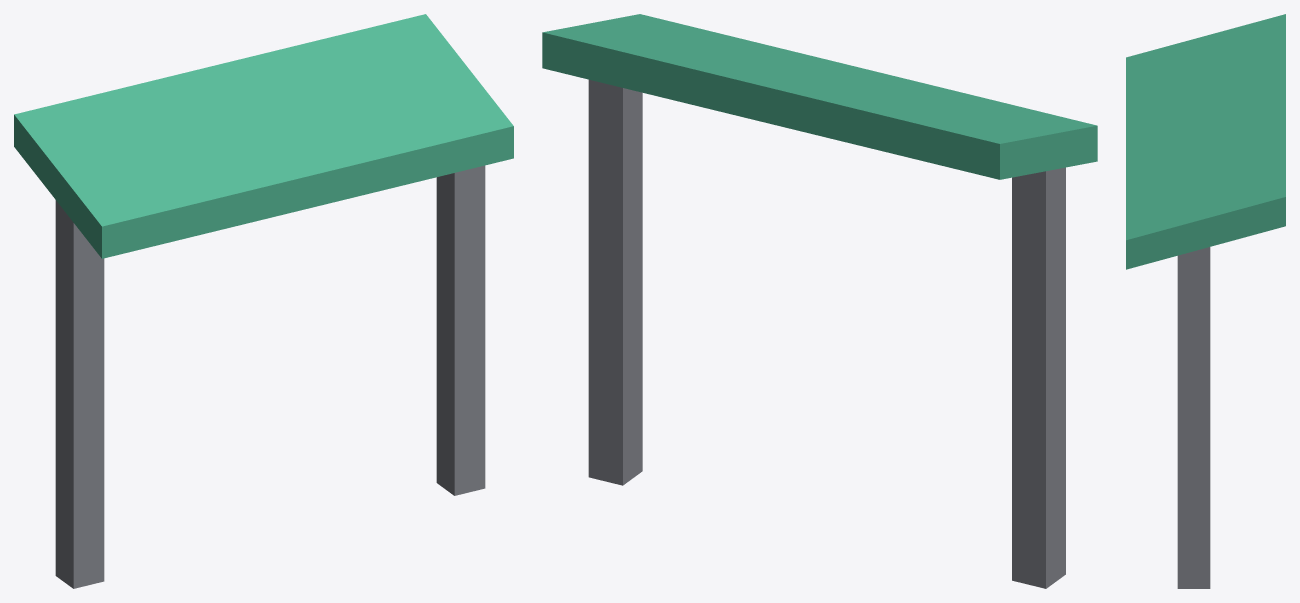
The model's file is detail_awning.fbx.
3 renders of one model, left to right at view 1: azimuth 30°, elevation 25°; view 2: azimuth 150°, elevation 25°; view 3: azimuth 270°, elevation 25°, orthographic. The views are drawn at different scales.
Visible parts, largest first — view 1: detail_awning; view 2: detail_awning; view 3: detail_awning.
Part boxes in pixels (x1=…): detail_awning: x1=14, y1=14, x2=513, y2=588; detail_awning: x1=542, y1=14, x2=1097, y2=588; detail_awning: x1=1126, y1=14, x2=1285, y2=588.
Bounding box in the file's own units: 4 × 4 × 1.48.
